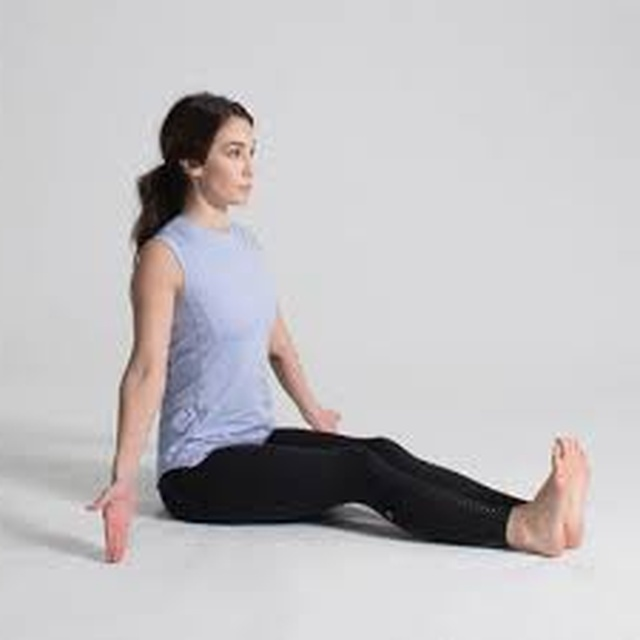Staff_Pose: (84, 89, 591, 564)
